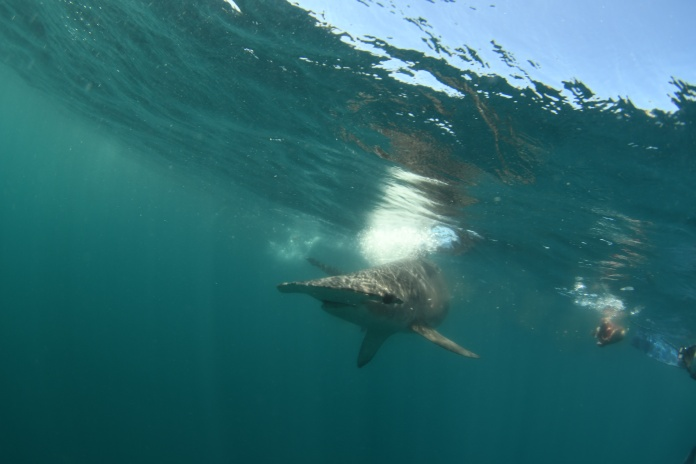Hammer: (253, 206, 488, 392)
